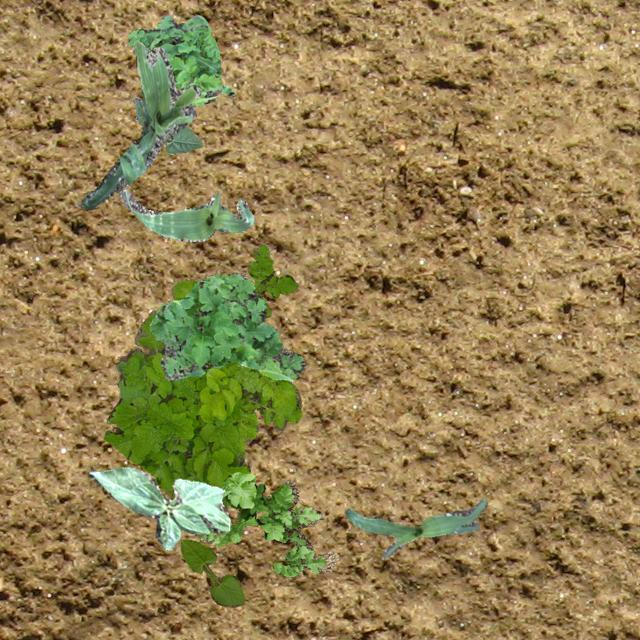crop: (80, 40, 200, 208), (88, 466, 230, 550), (344, 498, 486, 558), (118, 188, 254, 240), (180, 538, 243, 606), (132, 96, 202, 152)
weed: (102, 278, 300, 506), (148, 272, 304, 379), (192, 472, 338, 576), (126, 14, 234, 106), (246, 242, 296, 316)
